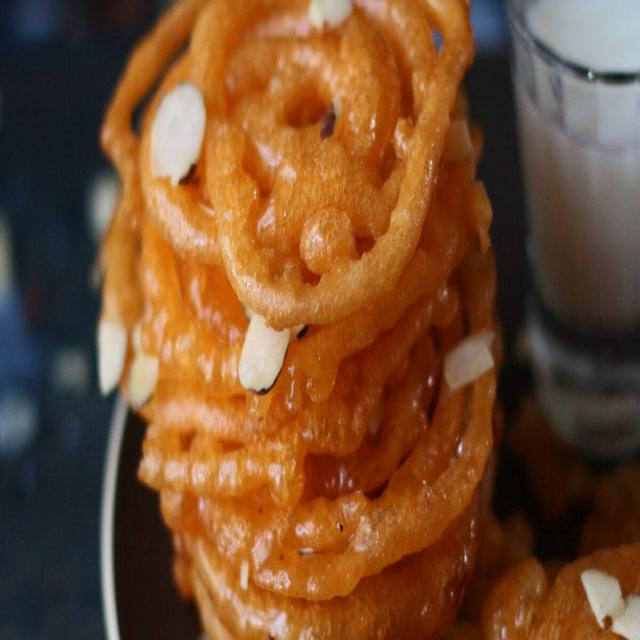jalebi: (110, 18, 596, 640)
